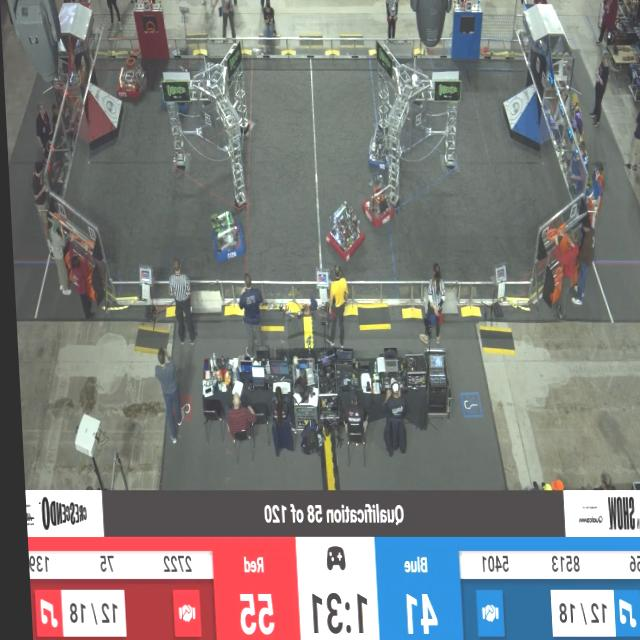Robot: (322, 200, 366, 264), (359, 111, 400, 177), (359, 166, 399, 231), (206, 208, 241, 264), (111, 55, 148, 106), (160, 78, 190, 119)
